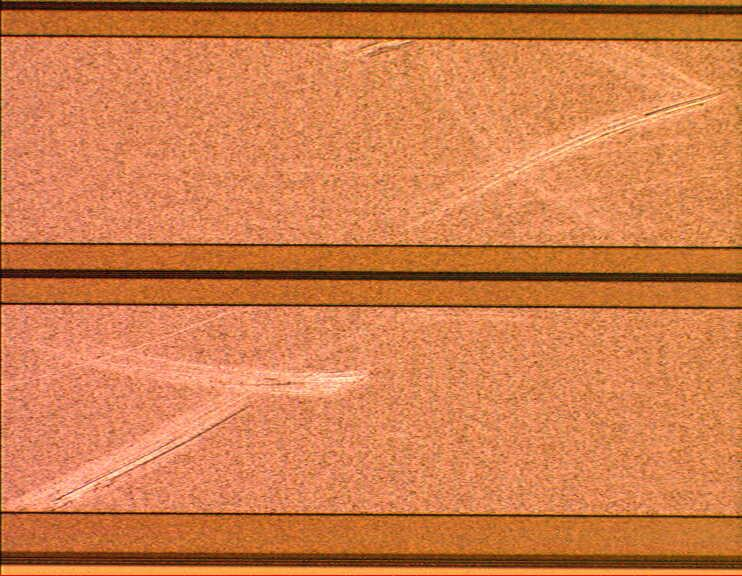SCRATCH: (1, 23, 732, 532)
